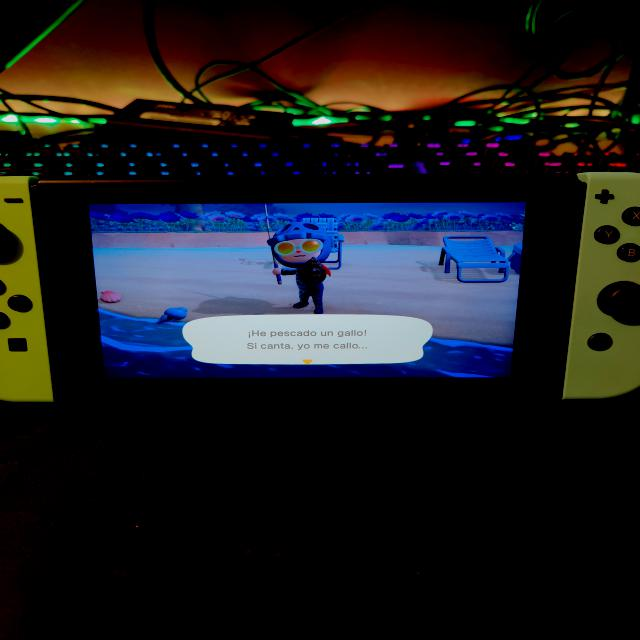text_bubble: (181, 312, 436, 367)
